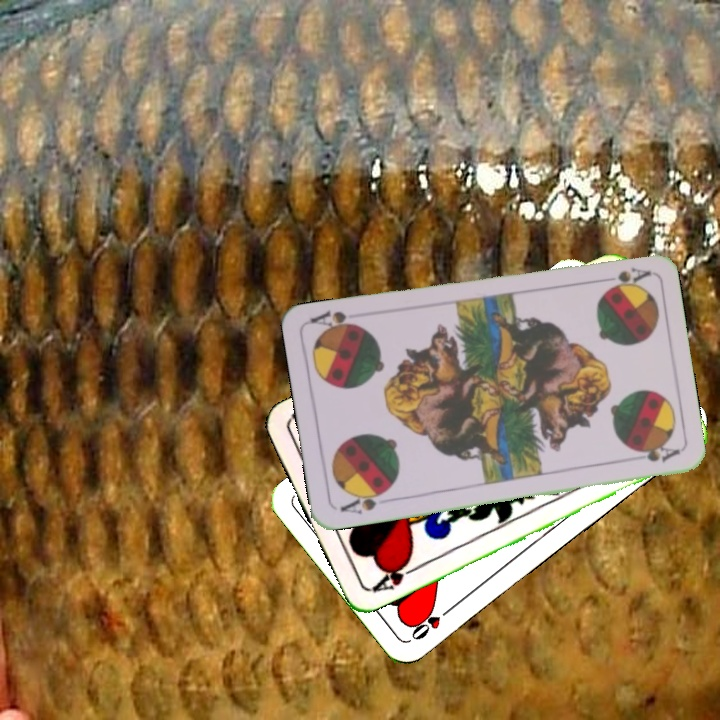HA: (367, 555, 422, 596)
HO: (407, 601, 457, 643)
SA: (336, 485, 392, 517), (593, 263, 652, 291)
